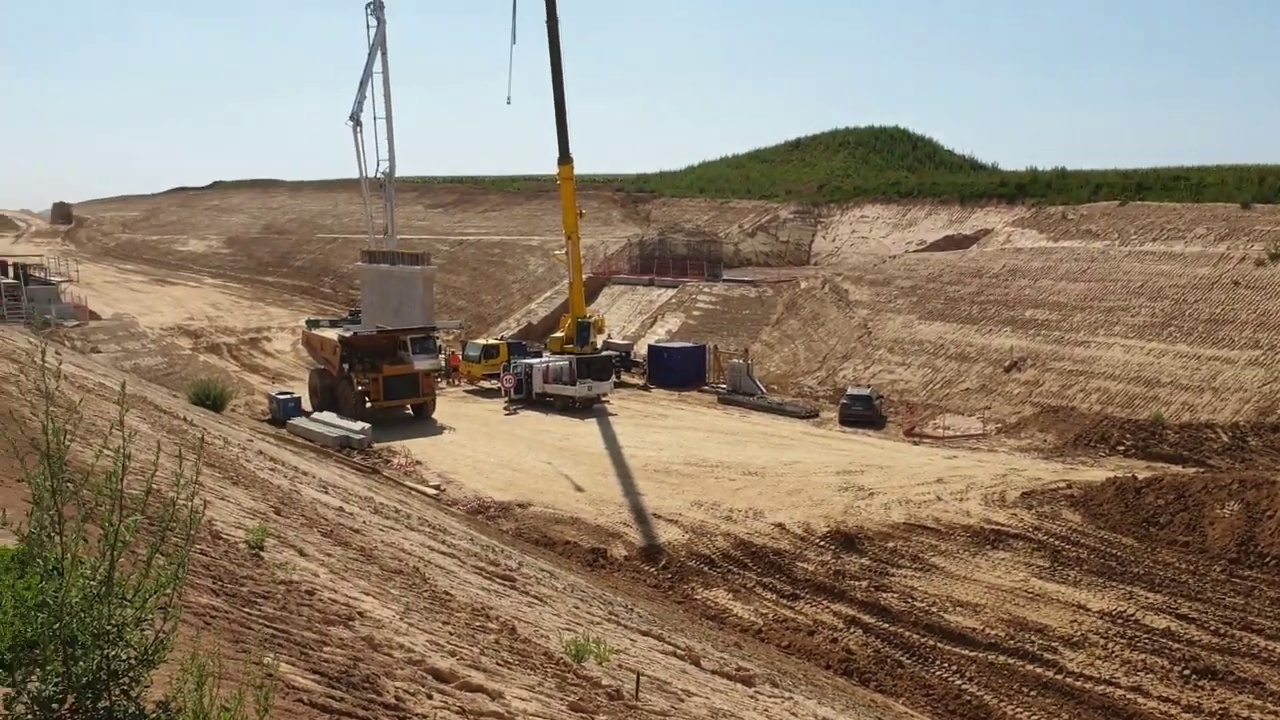crane: (459, 1, 629, 417)
truck: (291, 310, 442, 430)
worker: (445, 340, 463, 396)
